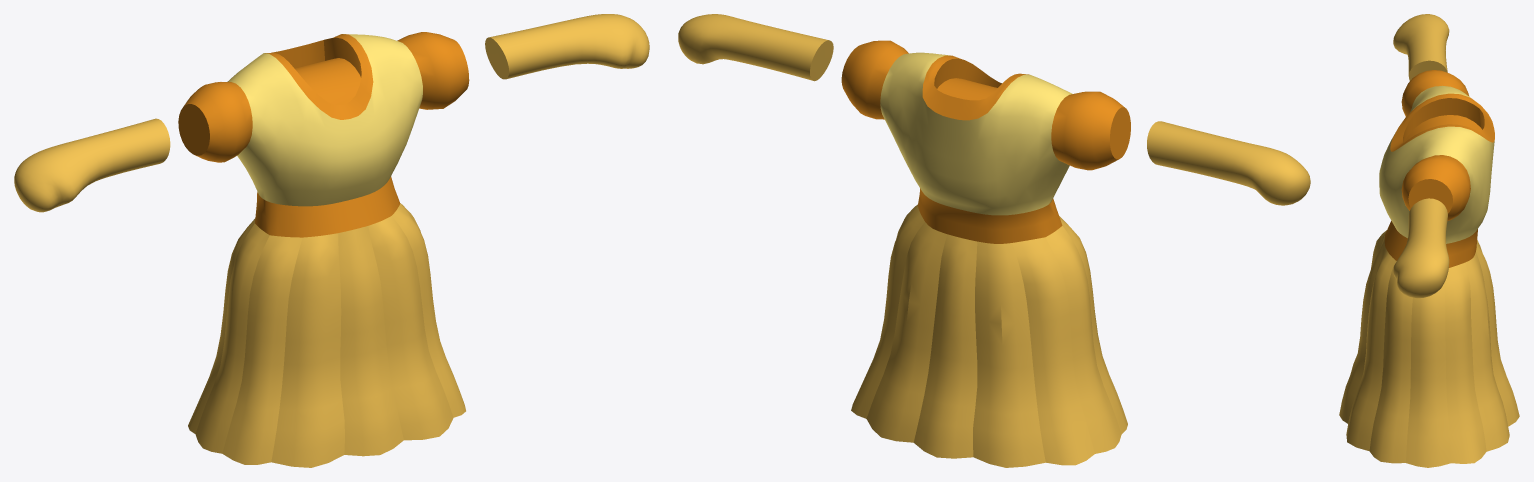
Rendered from 16公主裙.fbx.
3 views of the same model, side by side, from view 1: azimuth 30°, elevation 25°; view 2: azimuth 150°, elevation 25°; view 3: azimuth 270°, elevation 25° (orthographic). The views are drawn at different scales.
Visible parts, largest first — view 1: 16公主裙; view 2: 16公主裙; view 3: 16公主裙.
Part boxes in pixels (x1,y1,x2,y2): 16公主裙: (14,14,649,467); 16公主裙: (678,14,1310,467); 16公主裙: (1339,14,1519,467).
Size of the model in its own units: 1.97 by 1.09 by 0.581.
